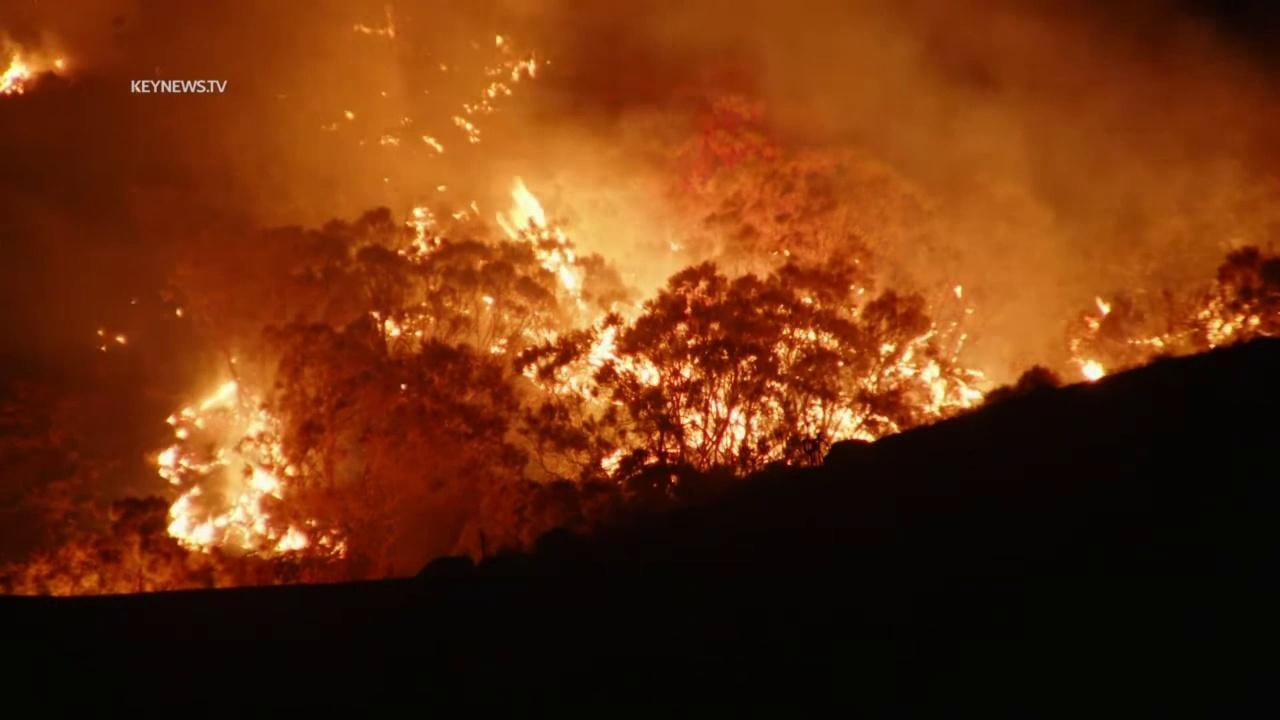fire: (516, 283, 989, 448), (150, 376, 349, 563), (497, 175, 585, 309), (1068, 297, 1114, 381), (1200, 296, 1267, 352), (397, 201, 444, 264), (0, 44, 37, 99), (459, 78, 514, 115), (1127, 326, 1199, 354), (368, 311, 442, 337), (351, 8, 400, 38), (600, 445, 633, 478), (451, 116, 483, 143), (451, 196, 482, 223), (421, 134, 448, 155), (489, 334, 509, 360), (486, 20, 505, 47), (665, 236, 685, 258), (950, 281, 966, 299), (477, 294, 496, 308), (50, 57, 65, 71), (93, 324, 107, 338), (343, 109, 357, 123), (962, 305, 979, 316), (434, 183, 450, 194), (113, 335, 128, 346), (400, 381, 412, 393), (502, 310, 512, 322)
smoke: (0, 0, 1280, 559)
